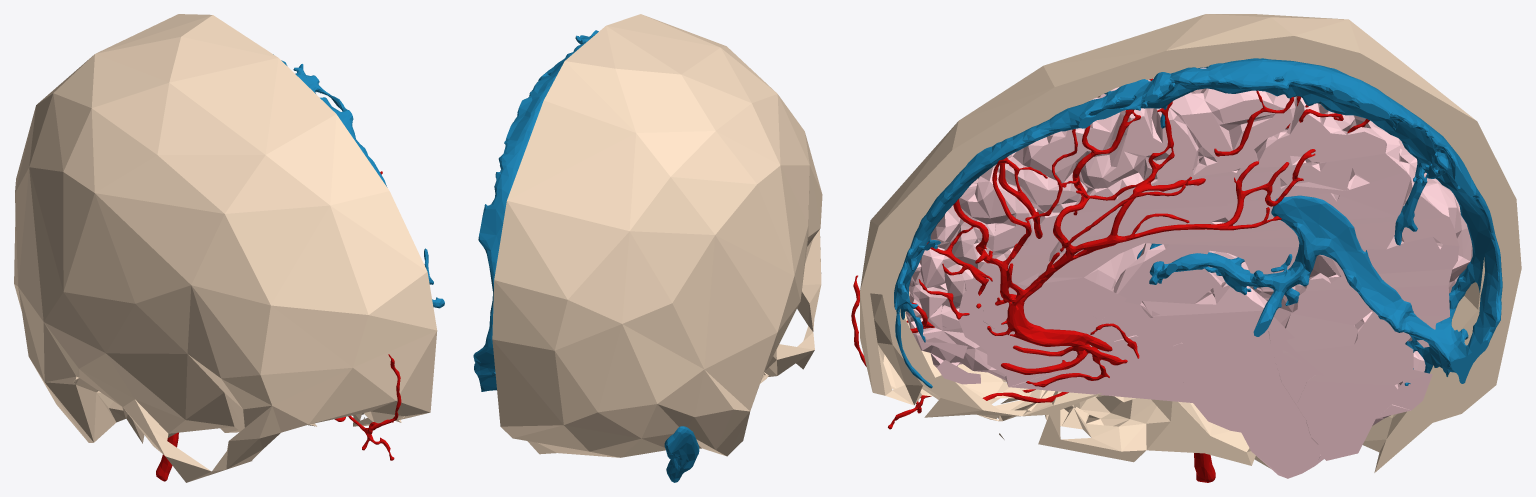
Rendered from Intracranial AVM.fbx.
3 renders of one model, left to right at view 1: azimuth 30°, elevation 25°; view 2: azimuth 150°, elevation 25°; view 3: azimuth 270°, elevation 25°, orthographic. The views are drawn at different scales.
Visible parts, largest first — view 1: fmrireg_ct_skull, fmri_veins, fmrireg_xa_rica; view 2: fmrireg_ct_skull, fmri_veins; view 3: brain, fmrireg_ct_skull, fmri_veins, fmrireg_xa_rica.
Part boxes in pixels (bbox=[...]): fmrireg_ct_skull: bbox=[14, 14, 437, 482]; fmri_veins: bbox=[273, 54, 444, 308]; fmrireg_xa_rica: bbox=[156, 171, 401, 481]; fmrireg_ct_skull: bbox=[492, 14, 822, 457]; fmri_veins: bbox=[473, 30, 699, 482]; brain: bbox=[905, 67, 1472, 478]; fmrireg_ct_skull: bbox=[860, 14, 1521, 472]; fmri_veins: bbox=[894, 58, 1502, 388]; fmrireg_xa_rica: bbox=[851, 78, 1369, 482].
Bounding box in the file's own units: 9490 × 14531 × 17760.
